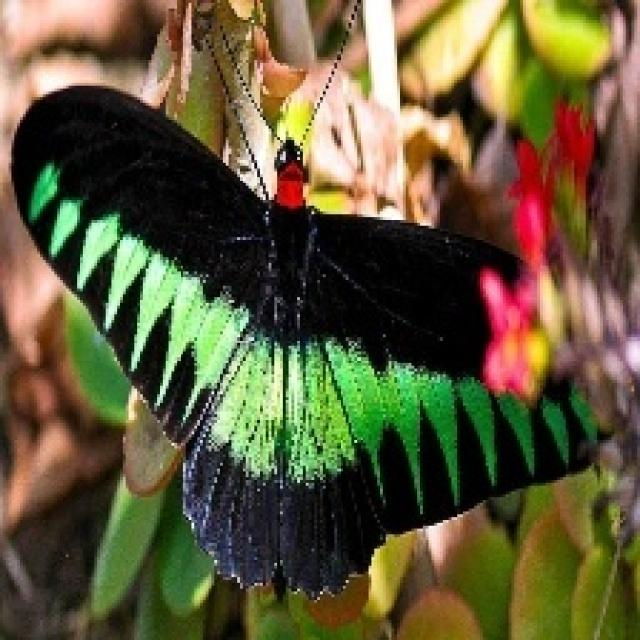butterfly: (6, 0, 611, 600)
